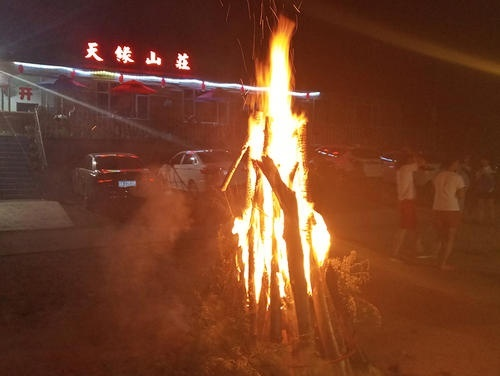fire: (231, 12, 337, 305)
